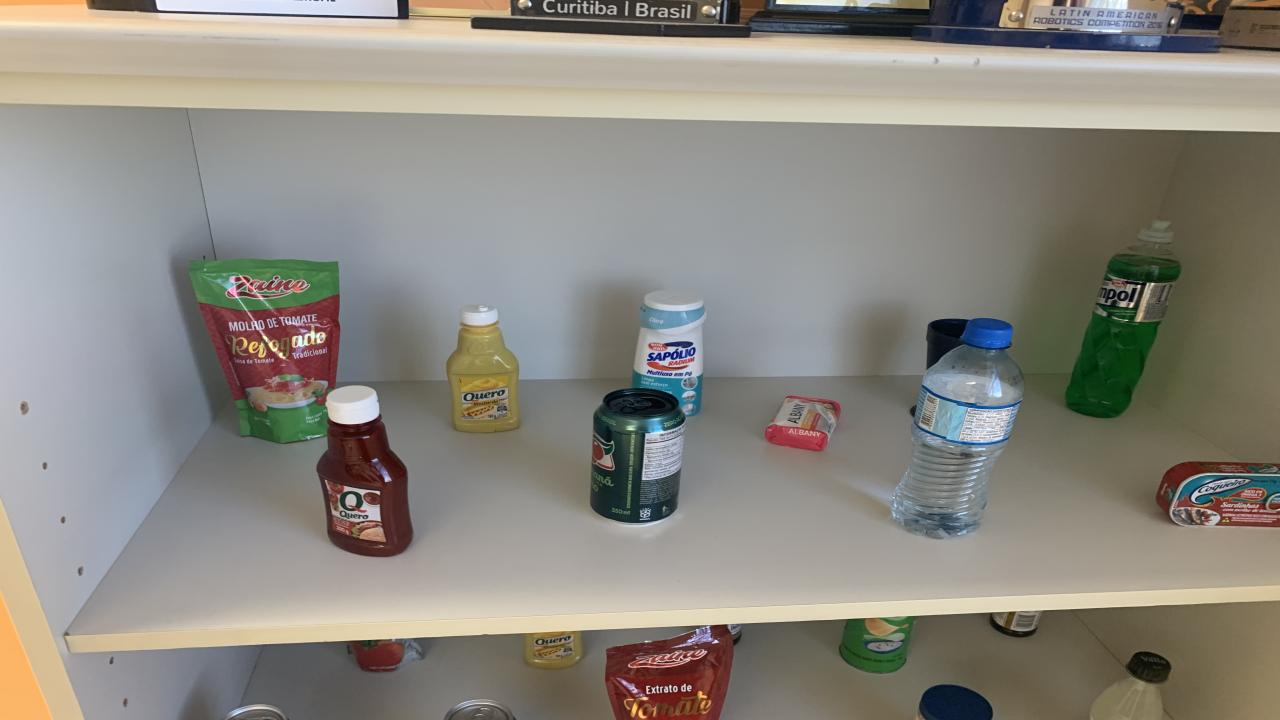Cleaner-Cleanup_Items: (632, 291, 705, 416)
Detergent-Cleanup_Items: (1065, 219, 1180, 418)
English_Sauce-Pantry_Items: (990, 611, 1042, 638)
Guarana_Can-Drinks: (590, 388, 685, 523)
Ketchup-Pantry_Items: (318, 386, 412, 557)
Mayonnaise-Pantry_Items: (918, 684, 992, 720)
Mustard-Pantry_Items: (448, 306, 520, 433), (525, 632, 582, 669)
Pringles-Snacks: (840, 617, 915, 673)
Soap-Cleanup_Items: (765, 396, 840, 450)
Soda-Drinks: (1090, 652, 1170, 720)
Tea-Drinks: (225, 703, 288, 720)
Tomato_Sauce-Pantry_Items: (190, 259, 340, 442), (605, 624, 732, 720), (350, 639, 422, 671)
Tonic-Drinks: (445, 699, 515, 720)
Tuna_Can-Pantry_Items: (1155, 461, 1280, 527)
Water_Bottle-Drinks: (892, 319, 1025, 538)
